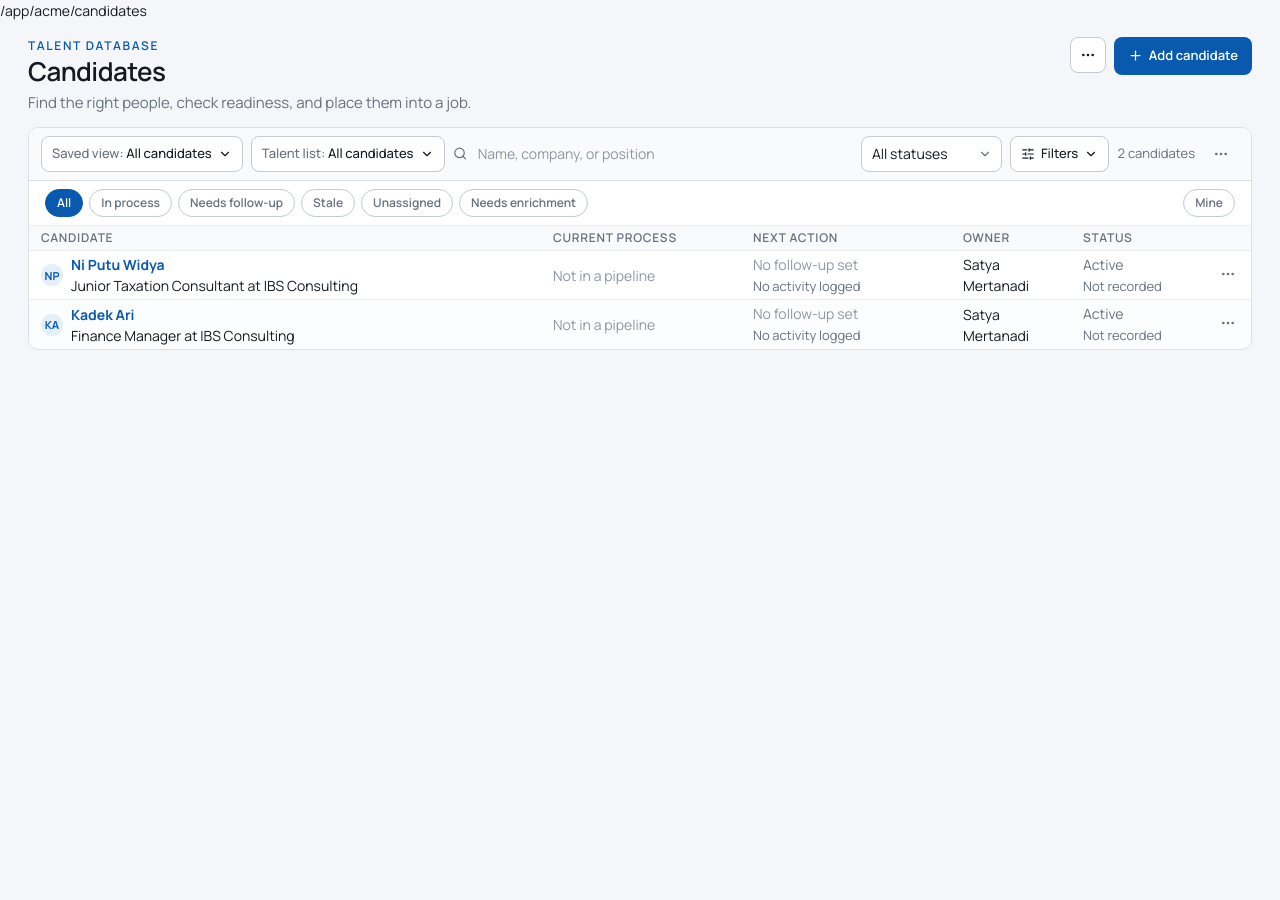
Scenario: CandidatesPage Quick View › opens the shared task modal against this candidate for a follow-up
Click the cell "Not in a pipeline" in the row of "NP": click(641, 276) [541,251,741,300]
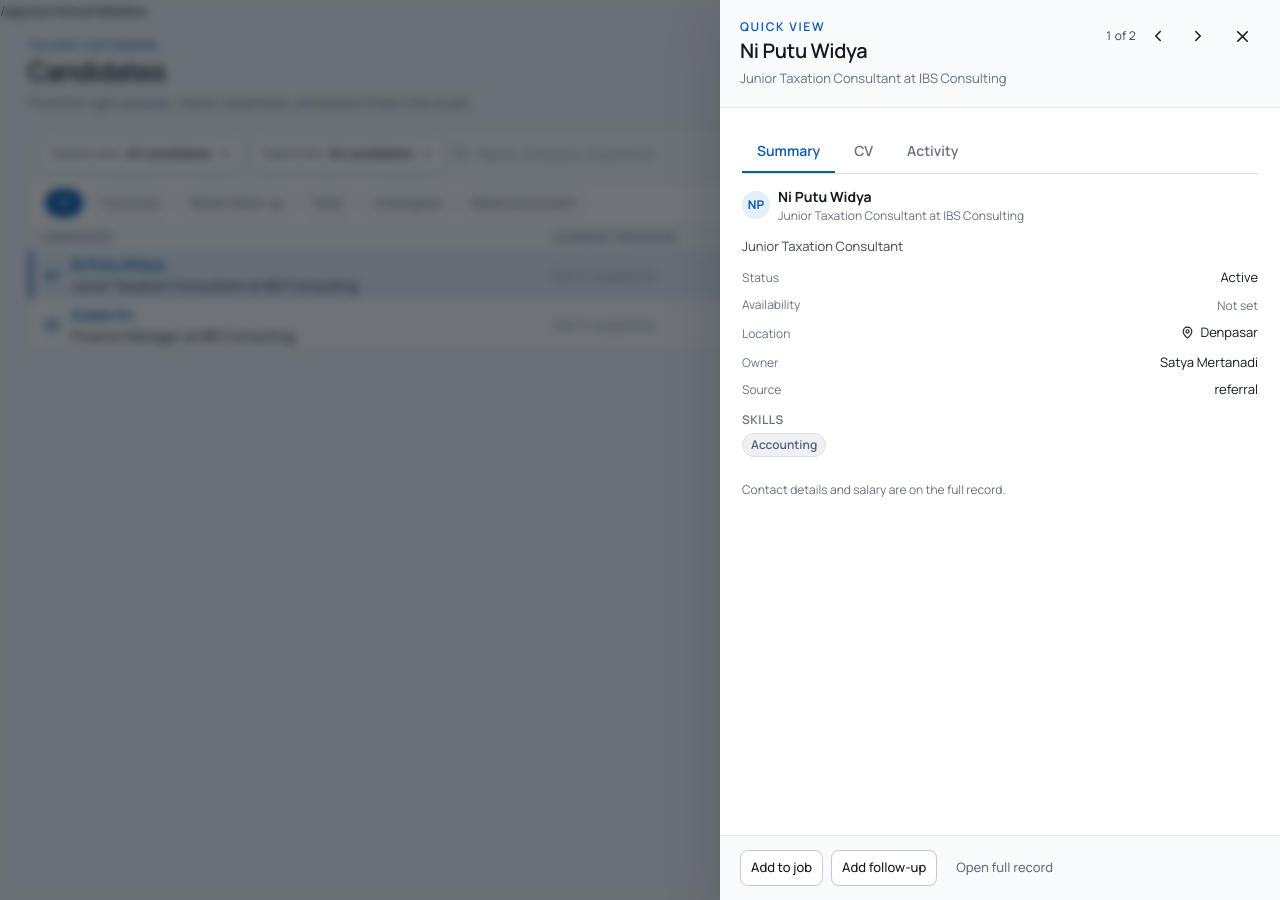
Now the dialog is shown, box [720,0,1279,899]
Click the button "Add follow-up": click(884, 868) [831,850,937,886]
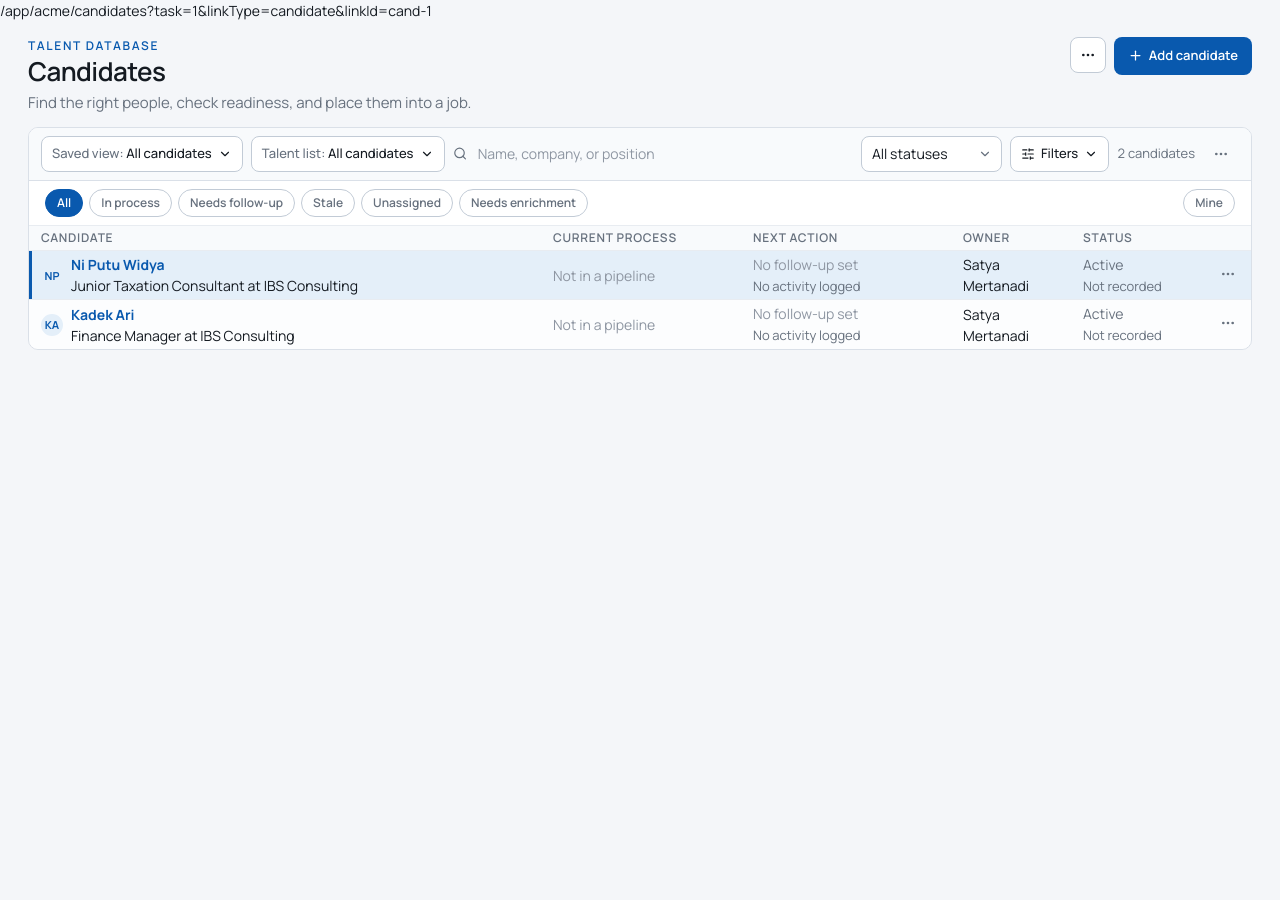
Now the dialog is gone
Now the text with test id "search" shows "task=1", box [147,1,432,20]
Now the text with test id "search" shows "linkType=candidate", box [147,1,432,20]
